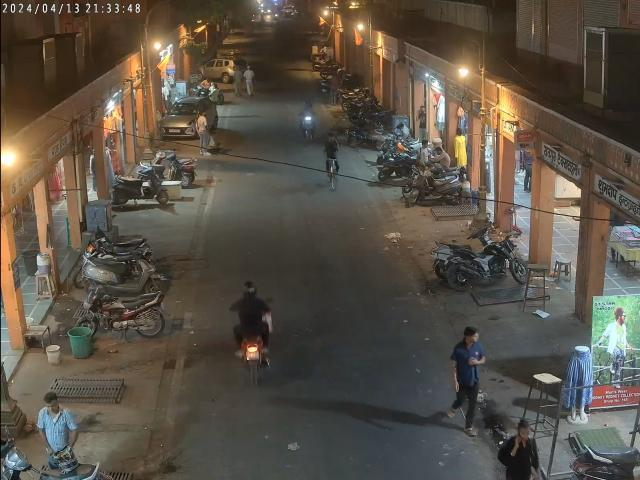bicycle-rider: (322, 134, 342, 191)
helmet: (243, 280, 260, 297)
motorbike: (80, 282, 168, 338), (448, 236, 526, 285)
motorbike-rider: (230, 281, 274, 386)
person: (449, 325, 491, 432), (37, 393, 82, 473), (500, 414, 540, 480), (193, 113, 216, 156), (236, 62, 258, 99)
scooty: (78, 253, 159, 294), (110, 166, 170, 206), (405, 168, 463, 208)
